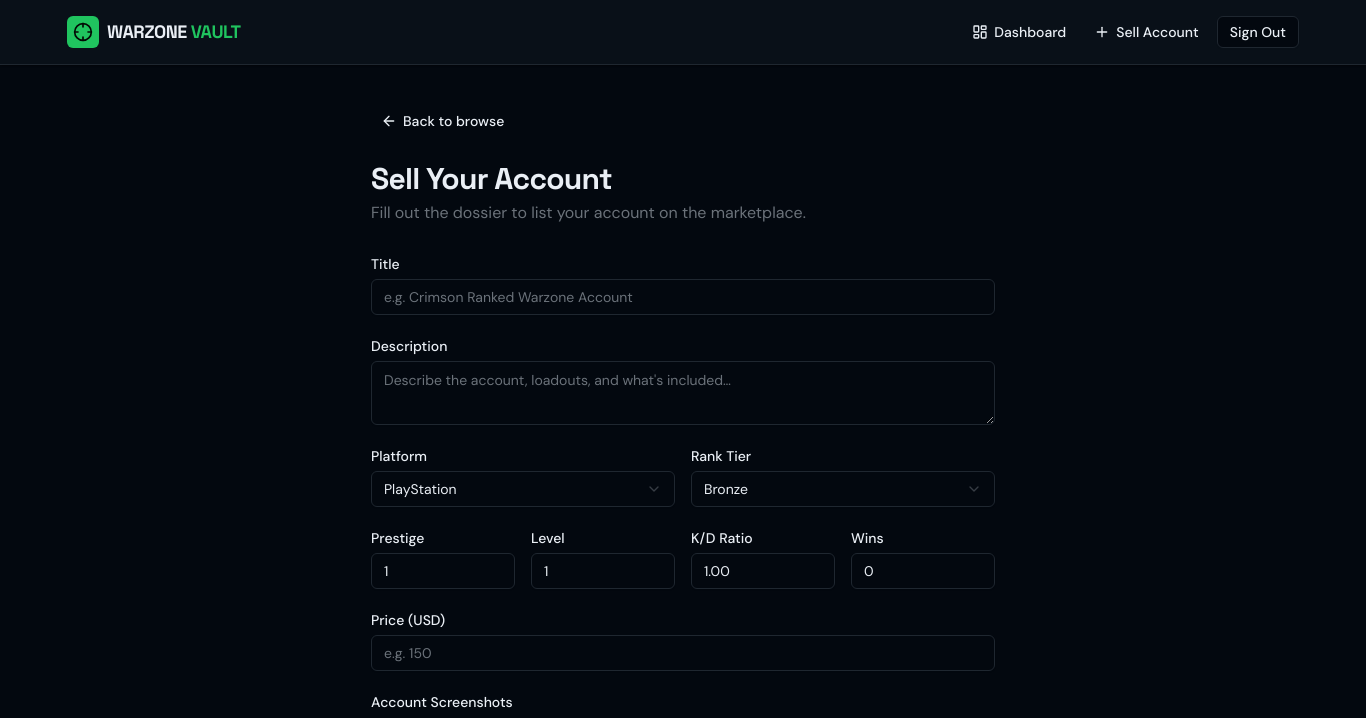
it: Listing form › disables submit until required fields are filled
In the field labelled "Title": (683, 297) [371,279,995,315], type "A Title"
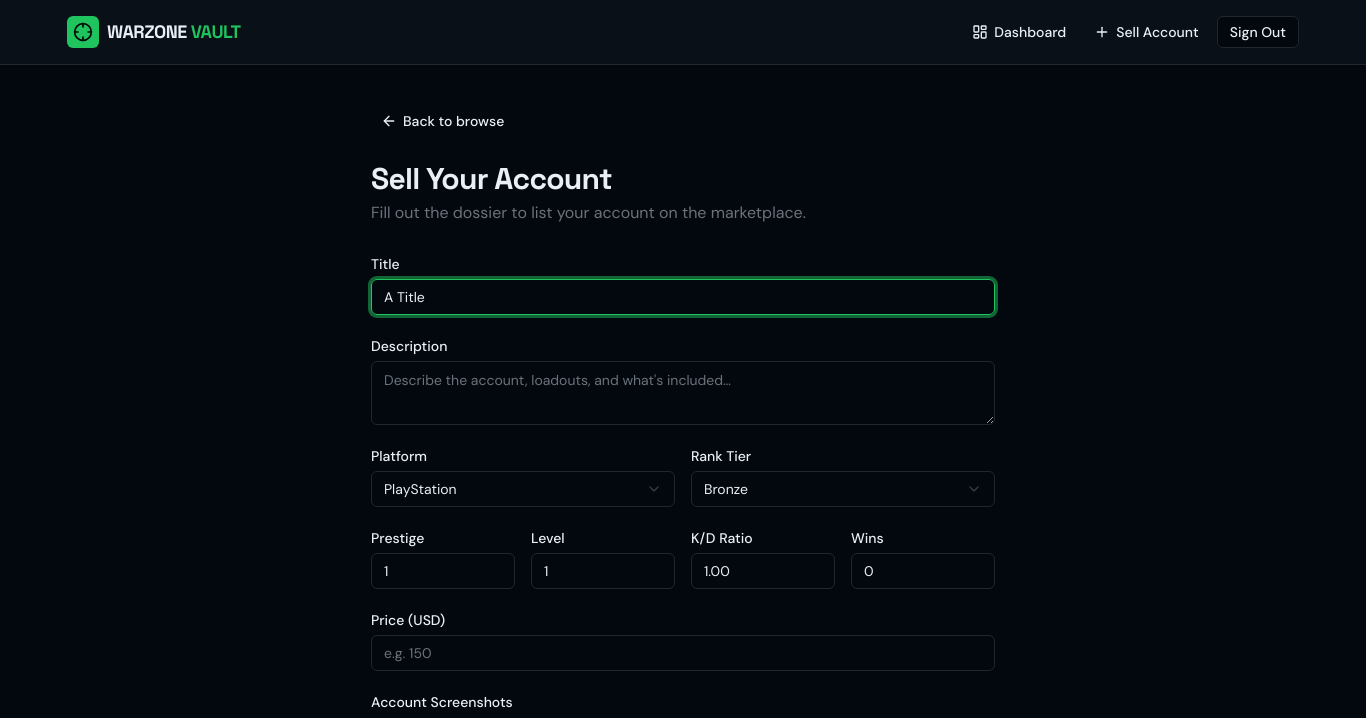
In the text box labelled "Description": (683, 393) [371,361,995,425], type "A description"
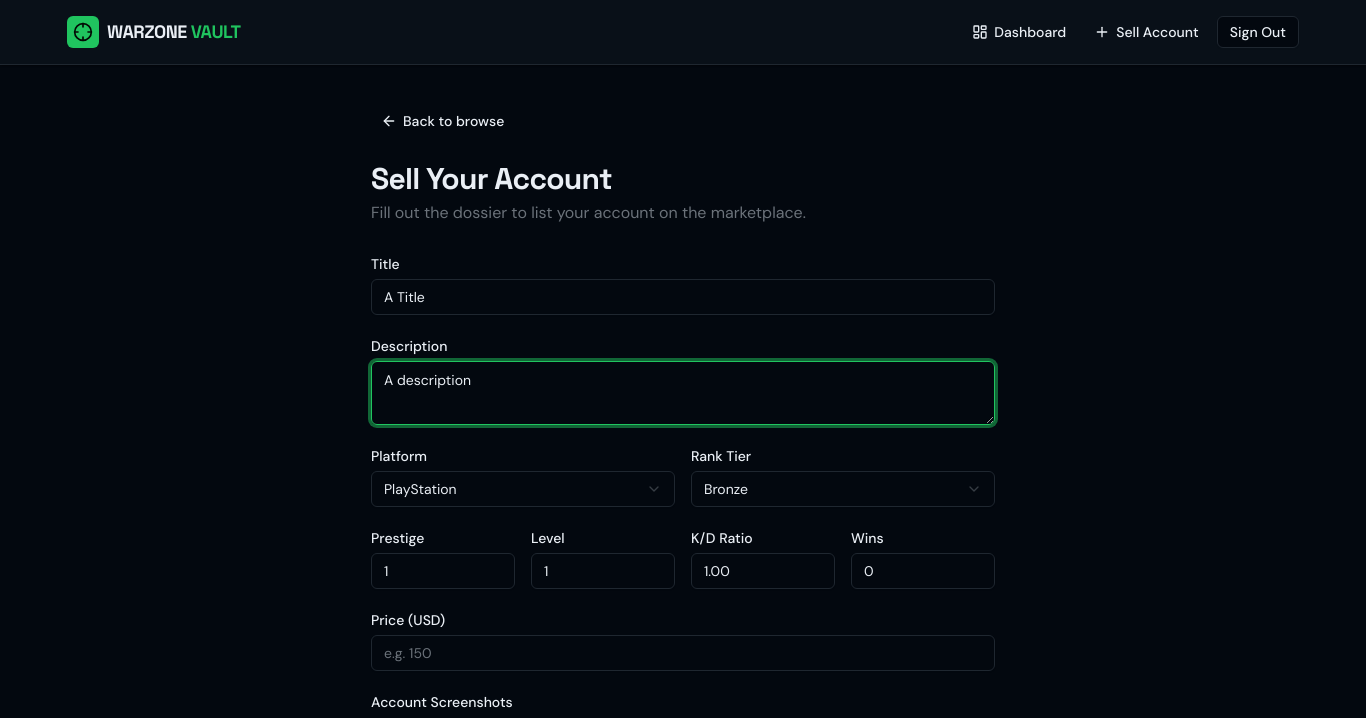
In the number field labelled "Price (USD)": (683, 653) [371,635,995,671], type "100"
(page scrolled)
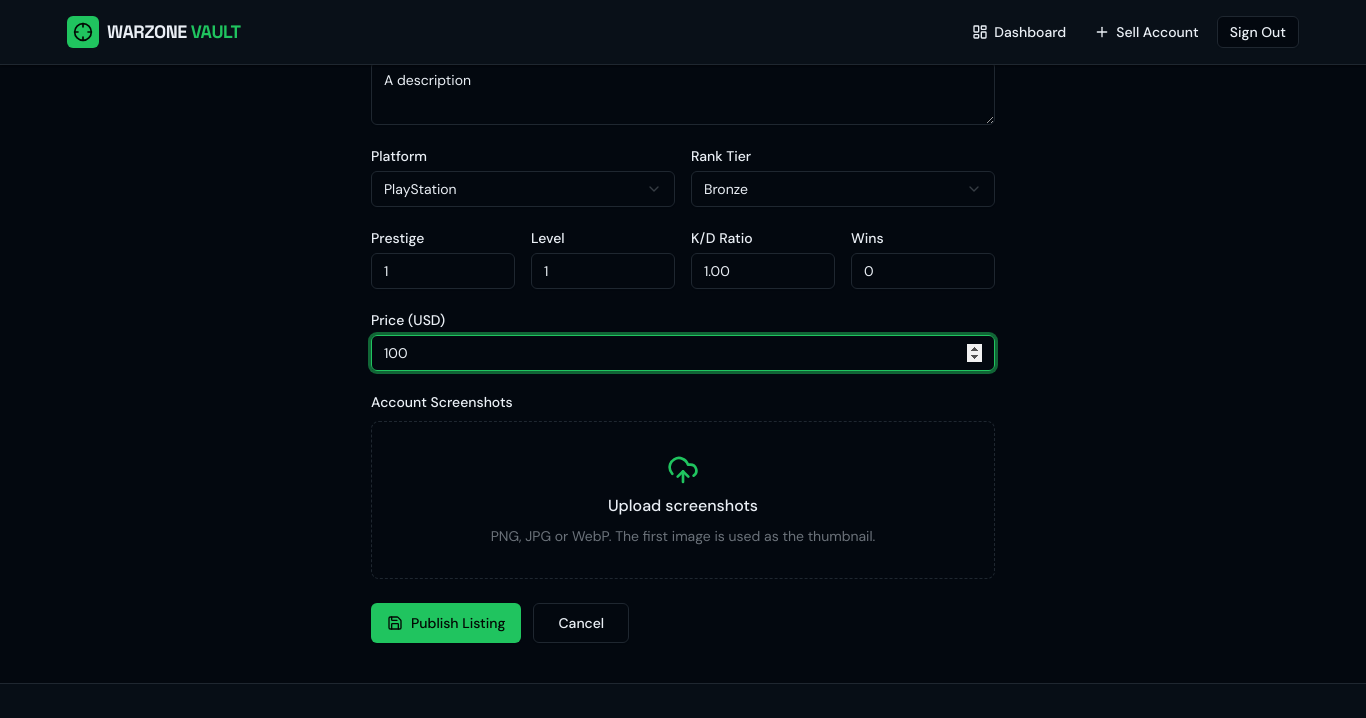
Expected: the button "Publish Listing" is enabled, [371,603,522,643]
